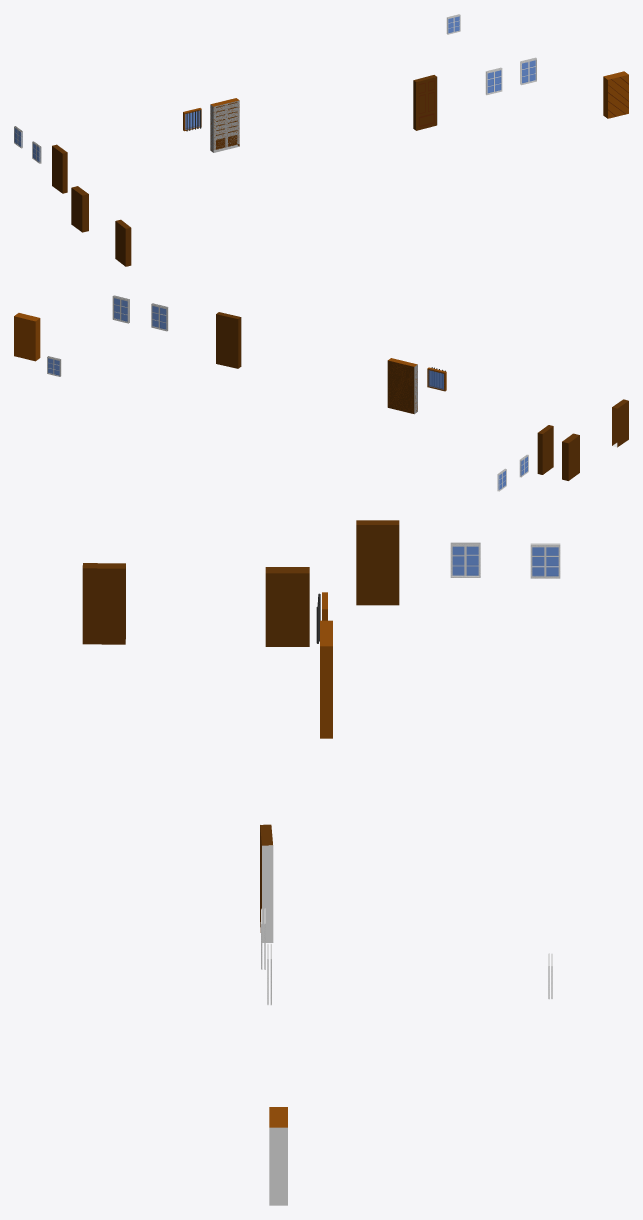
The model's file is okna_dvere.dae.
3 renders of one model, top to bottom at view 1: azimuth 30°, elevation 25°; view 2: azimuth 150°, elevation 25°; view 3: azimuth 270°, elevation 25°, orthographic. The views are drawn at different scales.
Visible parts, largest first — view 1: group_0, group_3, group_12, group_11, group_1, group_4; view 2: group_0, group_4, group_3, group_12, group_1, group_11; view 3: group_1, group_11, group_12, SketchUp, group_3, group_4.
Part boxes in pixels (x1,y1,x2,y2): group_0: (210,100,239,152); group_3: (603,71,628,118); group_12: (71,186,88,232); group_11: (115,219,131,266); group_1: (52,144,67,193); group_4: (416,77,436,130); group_0: (387,360,414,413); group_4: (216,312,240,368); group_3: (14,313,40,361); group_12: (562,433,579,480); group_1: (537,425,553,474); group_11: (612,399,628,447); group_1: (356,520,399,605); group_11: (82,563,125,644); group_12: (265,567,309,646); SketchUp: (320,620,332,738); group_3: (269,1127,287,1205); group_4: (262,845,273,942).
Size of the model in its own units: 871 by 328 by 146.
